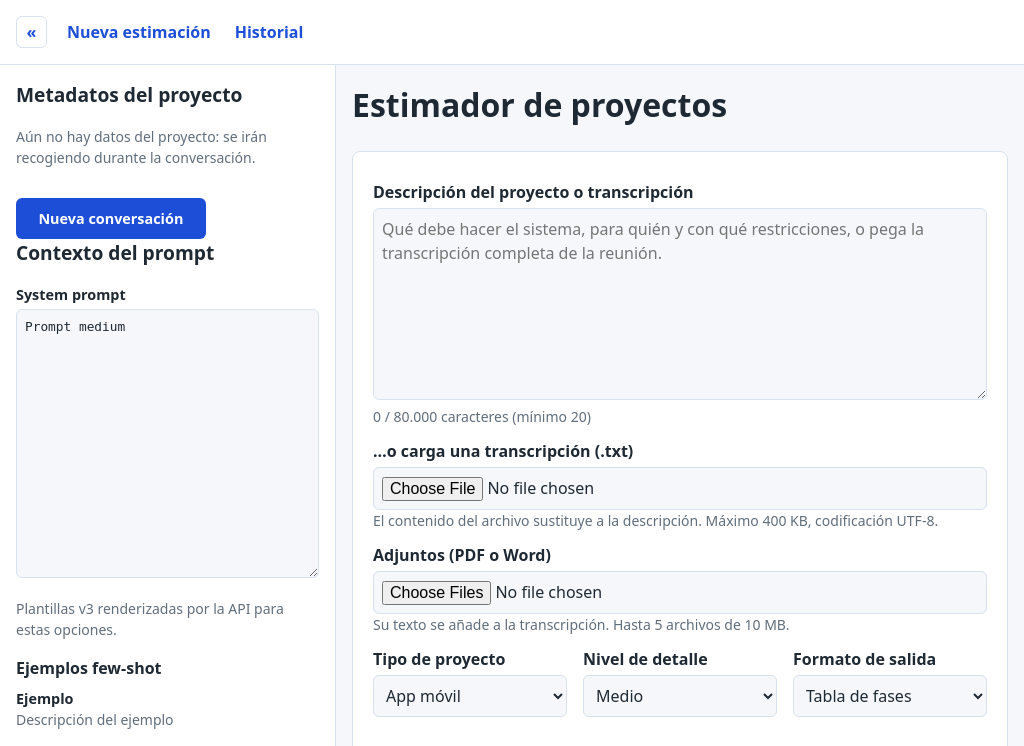
it: NewEstimationPage › al cambiar las opciones la barra pide el prompt de las nuevas opciones
Expected: the text box labelled "System prompt" holds "Prompt medium", [16,309,319,578]
Select "Detallado" in the dropdown labelled "Nivel de detalle" at (680, 696), box [583,675,777,717]
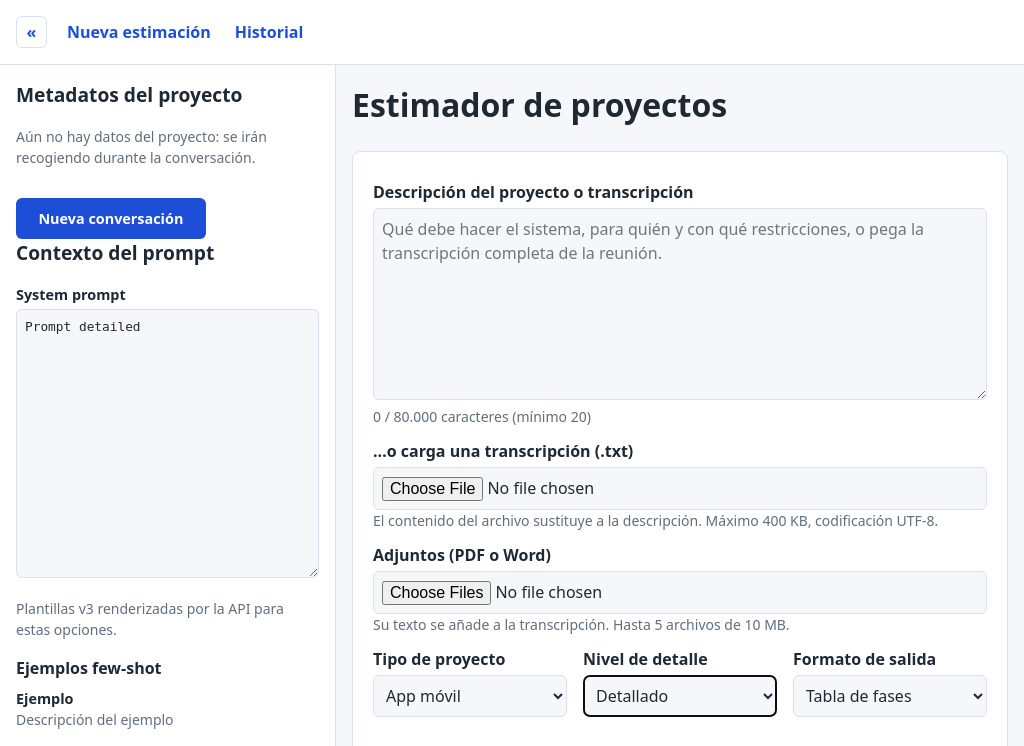
Now the text box labelled "System prompt" holds "Prompt detailed", box [16,309,319,578]
